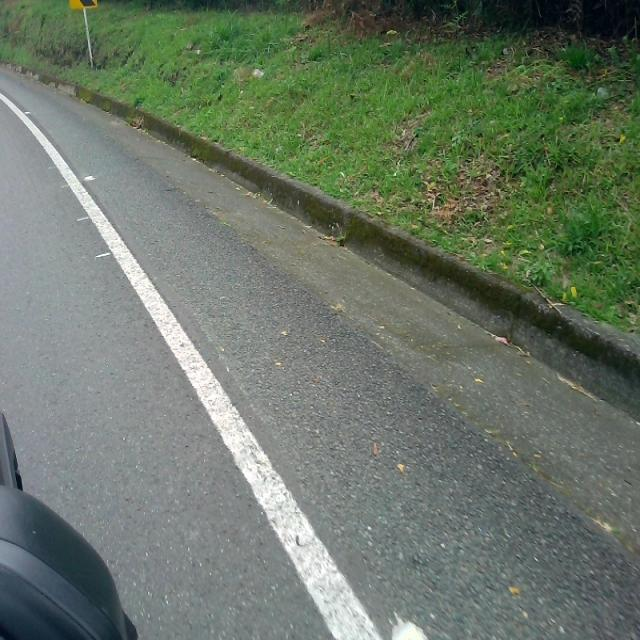DITCH: (1, 61, 638, 638)
